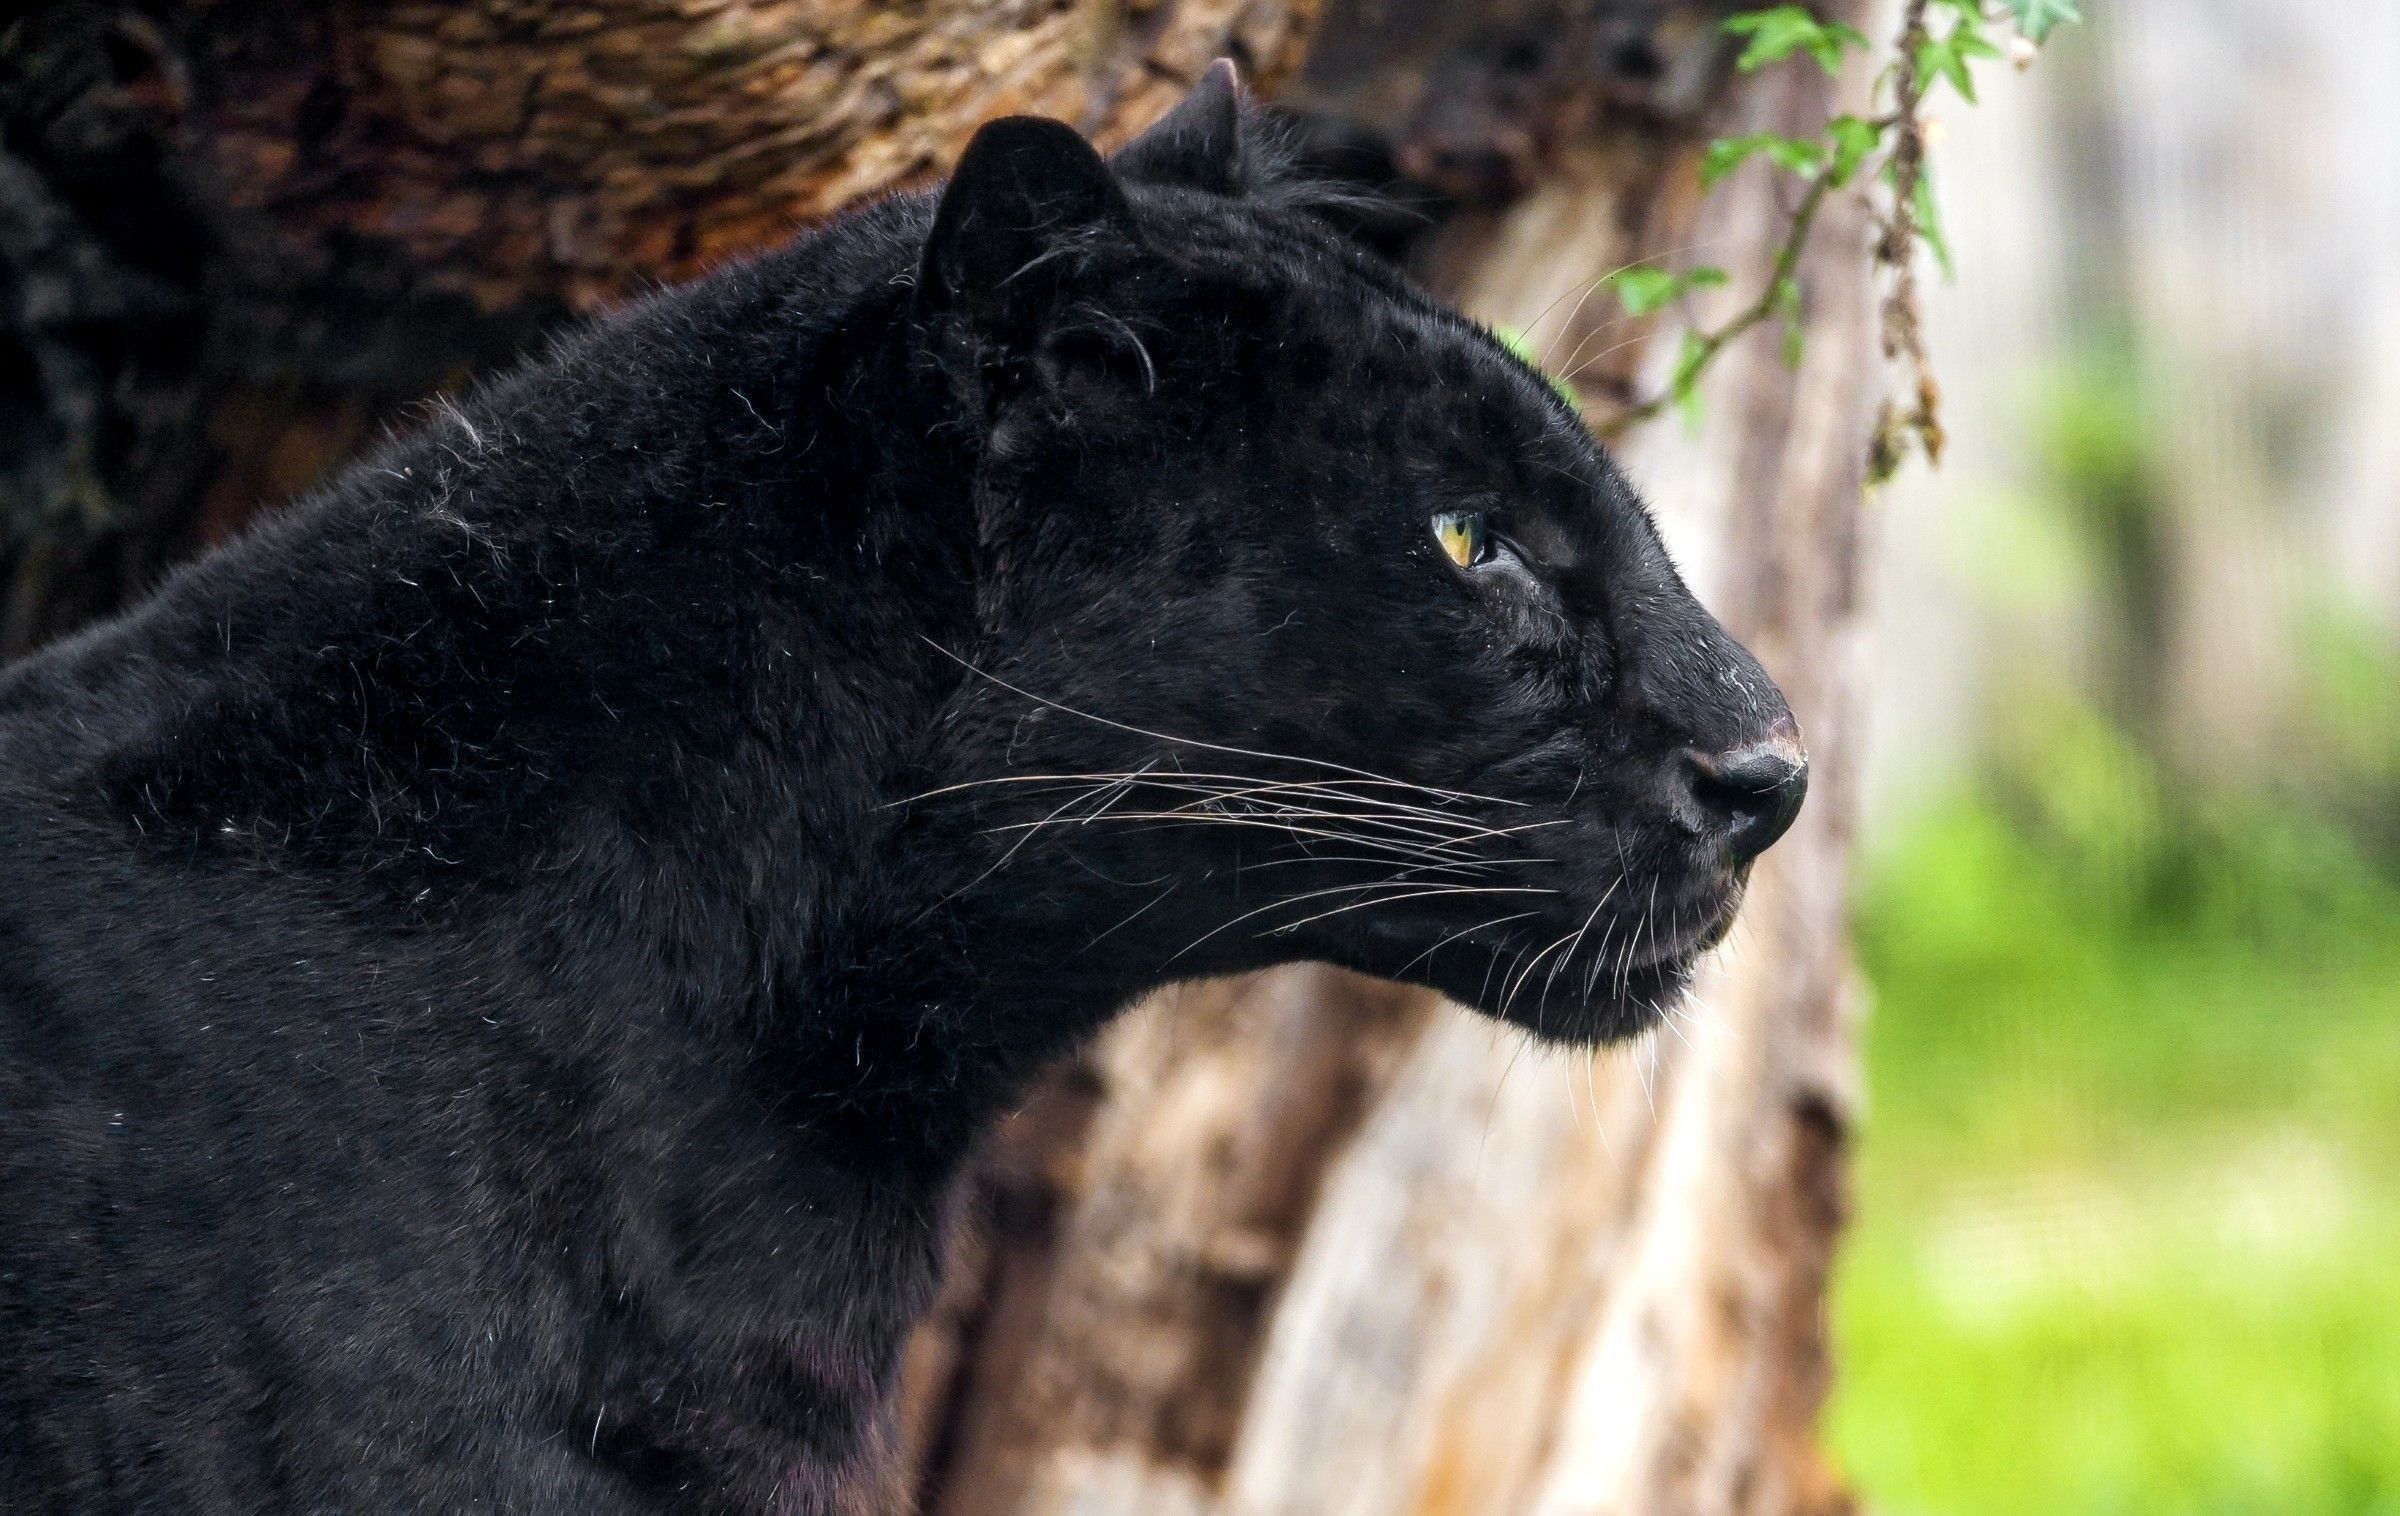panther: (790, 44, 1885, 1114)
